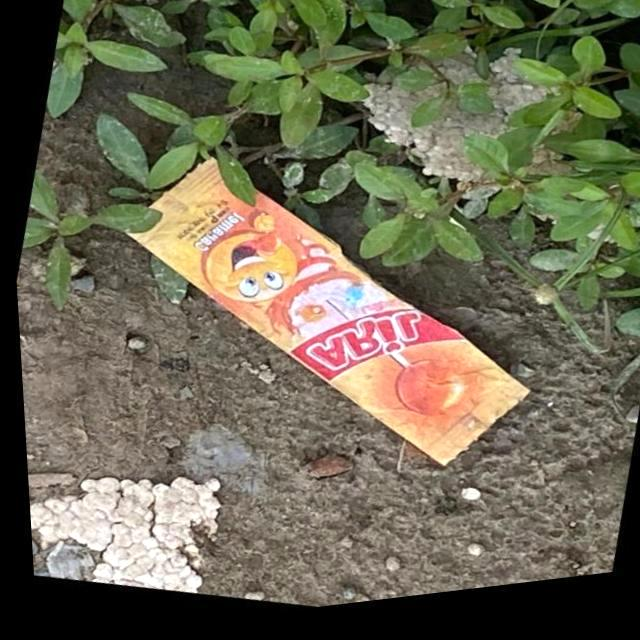packet: (104, 134, 534, 479)
